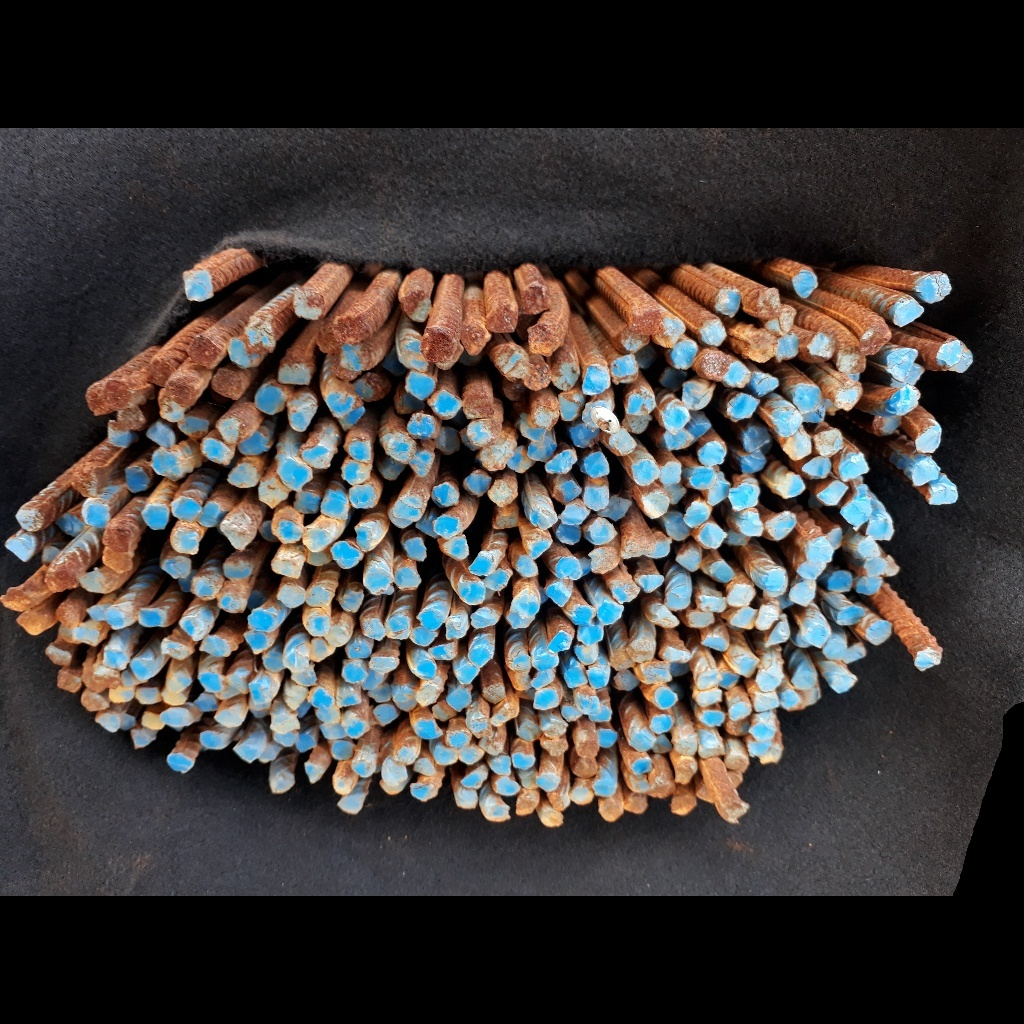dipstick: (487, 342, 528, 380), (240, 313, 276, 355), (220, 509, 257, 549), (330, 342, 365, 379), (276, 457, 314, 491), (69, 464, 105, 499), (477, 438, 514, 472), (188, 336, 226, 369), (916, 271, 955, 303), (293, 288, 330, 321), (287, 391, 316, 433), (551, 352, 581, 391), (181, 269, 217, 301), (257, 475, 291, 508), (421, 328, 452, 364), (882, 347, 918, 378), (213, 367, 245, 401), (45, 561, 79, 593), (355, 372, 390, 403), (630, 308, 667, 337), (764, 509, 797, 541), (268, 701, 302, 732), (467, 418, 503, 447), (885, 385, 923, 412), (522, 355, 552, 389), (405, 370, 439, 400), (656, 315, 686, 349), (489, 694, 519, 728), (253, 383, 287, 413), (216, 414, 250, 444), (331, 316, 370, 342), (1, 586, 38, 613), (319, 488, 350, 520), (488, 303, 518, 336), (166, 378, 199, 408), (581, 400, 614, 430), (699, 350, 732, 380), (728, 482, 761, 512), (725, 391, 759, 420), (329, 539, 364, 567), (102, 546, 137, 574), (147, 355, 177, 387), (773, 404, 803, 436), (784, 430, 814, 462), (568, 421, 602, 449), (4, 534, 38, 562), (101, 527, 136, 554), (519, 282, 549, 313), (527, 324, 557, 355), (748, 332, 778, 363), (859, 326, 889, 357), (893, 297, 924, 327), (682, 378, 712, 409), (766, 304, 795, 336), (664, 508, 693, 540), (545, 444, 577, 473), (782, 687, 819, 712), (581, 363, 609, 396), (157, 388, 185, 421), (633, 660, 673, 683), (467, 702, 491, 740), (237, 430, 272, 456), (698, 318, 728, 348), (759, 566, 789, 596), (171, 526, 201, 556), (611, 354, 640, 385), (793, 382, 824, 411), (607, 427, 638, 456), (82, 498, 111, 529), (403, 290, 431, 322), (669, 339, 697, 371), (427, 391, 460, 418), (722, 361, 755, 388), (736, 508, 769, 535), (340, 458, 373, 485), (201, 438, 234, 465), (178, 414, 211, 441), (300, 443, 334, 469), (398, 341, 428, 370), (944, 343, 973, 373), (661, 404, 691, 433), (152, 449, 181, 479), (463, 323, 491, 354), (838, 452, 869, 480), (589, 546, 620, 574), (363, 567, 394, 595), (619, 326, 651, 353), (792, 266, 819, 298), (85, 380, 110, 414), (816, 481, 850, 506), (226, 463, 260, 488), (507, 445, 536, 474), (805, 330, 835, 358), (836, 347, 866, 375), (697, 521, 727, 549), (619, 535, 654, 559), (489, 479, 519, 507), (105, 378, 132, 409), (753, 287, 780, 318), (626, 638, 657, 665), (479, 724, 506, 755), (482, 794, 513, 821), (463, 393, 495, 419), (630, 459, 662, 485), (586, 517, 618, 543), (348, 482, 380, 508), (214, 702, 246, 728), (912, 646, 945, 671), (271, 554, 304, 579), (767, 614, 791, 648), (597, 496, 631, 520), (144, 423, 178, 447), (246, 608, 280, 632), (890, 363, 927, 385), (640, 490, 669, 518), (530, 404, 560, 431), (865, 620, 895, 647), (696, 438, 726, 465), (652, 683, 679, 713), (143, 501, 170, 531), (224, 667, 254, 694), (916, 423, 942, 454), (706, 476, 732, 507), (407, 412, 438, 438), (393, 495, 424, 521), (16, 610, 47, 636), (624, 390, 656, 415), (665, 426, 697, 451), (648, 605, 680, 630), (539, 732, 571, 757), (81, 661, 106, 693), (343, 636, 376, 660), (815, 428, 843, 456), (841, 499, 870, 526), (582, 451, 611, 478), (512, 590, 539, 619), (445, 685, 474, 712), (393, 564, 422, 591), (387, 436, 416, 463), (834, 604, 868, 627), (325, 392, 359, 415), (559, 392, 585, 422), (684, 498, 710, 528), (689, 465, 719, 491), (671, 755, 697, 785), (381, 758, 411, 784), (249, 674, 279, 700), (196, 502, 226, 528), (106, 419, 132, 449), (106, 604, 136, 630), (751, 372, 782, 397), (277, 363, 313, 384), (836, 384, 863, 412), (464, 469, 491, 497), (552, 476, 581, 502), (276, 583, 305, 609), (829, 670, 859, 695), (172, 496, 202, 521), (16, 508, 46, 533), (716, 287, 740, 318), (623, 409, 654, 433), (560, 500, 591, 524), (336, 405, 367, 429), (223, 557, 254, 581), (470, 606, 502, 629), (773, 332, 800, 359), (805, 622, 832, 649), (791, 580, 818, 607), (529, 436, 557, 462), (275, 517, 303, 543), (233, 736, 259, 764), (46, 644, 74, 670), (934, 341, 963, 366), (913, 458, 942, 483), (741, 426, 770, 451), (676, 546, 705, 571), (444, 611, 469, 640), (218, 588, 247, 613), (803, 456, 833, 480), (515, 786, 539, 816), (552, 521, 582, 545), (114, 406, 145, 429), (668, 793, 699, 816), (164, 751, 195, 774), (160, 638, 191, 661), (129, 658, 160, 681), (77, 569, 108, 592), (730, 603, 756, 630), (722, 802, 749, 828), (530, 504, 557, 530), (411, 651, 438, 677), (415, 681, 442, 707), (294, 489, 321, 515), (94, 663, 120, 690), (732, 653, 760, 678), (576, 729, 601, 757), (424, 641, 459, 661), (391, 685, 416, 713), (56, 667, 84, 692), (867, 517, 896, 541), (584, 483, 608, 512), (413, 717, 442, 741), (441, 535, 470, 559), (504, 609, 537, 630), (481, 681, 511, 704), (285, 681, 308, 711), (267, 771, 297, 794), (161, 556, 191, 579), (530, 687, 561, 709), (302, 586, 333, 608), (377, 458, 408, 480), (728, 582, 754, 608), (309, 637, 335, 663), (244, 629, 270, 655), (192, 574, 218, 600), (58, 600, 84, 626), (649, 775, 676, 800), (341, 660, 368, 685), (325, 621, 350, 648), (874, 411, 902, 435), (698, 591, 730, 612), (673, 733, 701, 757), (282, 646, 310, 670), (180, 614, 208, 638), (164, 668, 192, 692), (125, 466, 149, 494), (628, 729, 657, 752), (484, 568, 513, 591), (486, 754, 515, 777), (659, 643, 692, 663), (346, 439, 376, 461), (54, 513, 84, 535), (743, 449, 768, 475), (547, 581, 572, 607), (355, 524, 381, 549), (362, 615, 388, 640), (102, 644, 127, 670), (503, 378, 530, 402), (806, 538, 833, 562), (687, 411, 711, 438), (575, 693, 602, 717), (459, 580, 486, 604), (371, 704, 398, 728), (335, 684, 362, 708), (931, 482, 959, 505), (626, 772, 654, 795), (556, 556, 584, 579), (541, 716, 569, 739), (416, 608, 444, 631), (81, 690, 109, 713), (709, 558, 738, 580), (492, 775, 521, 797), (300, 526, 329, 548), (797, 558, 827, 579), (686, 608, 716, 629), (524, 537, 554, 558), (200, 730, 230, 751), (386, 615, 411, 640), (821, 634, 847, 658), (598, 601, 624, 625), (303, 613, 329, 637), (261, 647, 285, 673), (591, 774, 618, 797), (572, 756, 599, 779), (461, 765, 488, 788), (342, 715, 369, 738), (366, 681, 393, 704), (410, 449, 433, 476), (162, 708, 193, 728), (699, 707, 727, 729), (724, 750, 752, 772), (609, 649, 637, 671), (570, 604, 598, 626), (71, 624, 99, 646), (634, 572, 663, 593), (614, 582, 643, 603), (753, 692, 782, 713), (319, 721, 351, 740), (782, 474, 806, 499), (857, 534, 882, 558), (855, 575, 885, 595), (646, 715, 676, 735), (598, 796, 622, 821), (546, 630, 571, 654), (547, 786, 572, 810), (403, 537, 427, 562), (313, 704, 343, 724), (827, 570, 853, 593), (573, 642, 599, 665), (459, 743, 485, 766), (432, 483, 458, 506), (339, 589, 365, 612), (291, 664, 317, 687), (745, 735, 772, 757), (453, 663, 480, 685), (302, 548, 333, 567), (578, 624, 606, 645), (469, 555, 497, 576), (445, 728, 473, 749), (411, 626, 439, 647), (337, 794, 365, 815), (613, 670, 641, 691), (200, 636, 229, 656), (716, 666, 740, 690), (758, 741, 782, 765), (436, 428, 460, 452), (515, 554, 538, 579), (95, 709, 120, 732), (494, 508, 520, 530), (432, 743, 458, 765), (531, 650, 561, 669), (751, 721, 778, 742), (139, 606, 166, 627), (409, 781, 437, 801), (757, 668, 781, 691), (586, 666, 610, 689), (660, 461, 682, 486), (647, 532, 669, 557), (666, 590, 691, 612), (413, 756, 438, 778), (197, 671, 222, 693), (702, 630, 728, 651), (467, 645, 493, 666), (695, 670, 722, 690), (431, 700, 458, 720), (193, 692, 221, 711), (517, 720, 540, 743), (260, 741, 283, 764), (724, 715, 748, 737), (455, 787, 479, 809), (569, 784, 594, 805), (511, 750, 536, 771), (309, 686, 334, 707), (586, 705, 615, 723), (329, 740, 355, 760), (130, 728, 156, 748), (360, 670, 387, 689), (693, 690, 727, 705), (730, 700, 753, 722), (517, 766, 539, 789), (259, 519, 281, 542), (528, 668, 556, 686), (371, 656, 399, 674), (434, 515, 458, 536), (843, 641, 869, 660), (624, 793, 650, 812), (393, 746, 419, 765), (303, 762, 325, 784), (664, 483, 687, 504), (537, 771, 560, 792), (792, 668, 816, 688), (698, 745, 728, 761), (629, 754, 653, 774), (542, 809, 566, 829), (135, 686, 163, 703), (141, 710, 166, 729), (506, 651, 532, 669), (272, 730, 298, 748), (597, 729, 619, 750), (332, 774, 354, 795), (509, 670, 532, 690), (85, 604, 112, 621), (352, 759, 376, 778), (57, 624, 81, 643), (883, 552, 901, 577), (161, 689, 189, 705), (651, 734, 672, 755), (39, 544, 62, 563), (121, 667, 145, 685), (110, 685, 135, 702), (378, 780, 408, 794), (295, 733, 317, 752), (560, 704, 584, 721), (865, 557, 885, 577), (247, 590, 267, 610), (667, 661, 691, 677), (827, 526, 842, 550), (118, 711, 136, 731)
